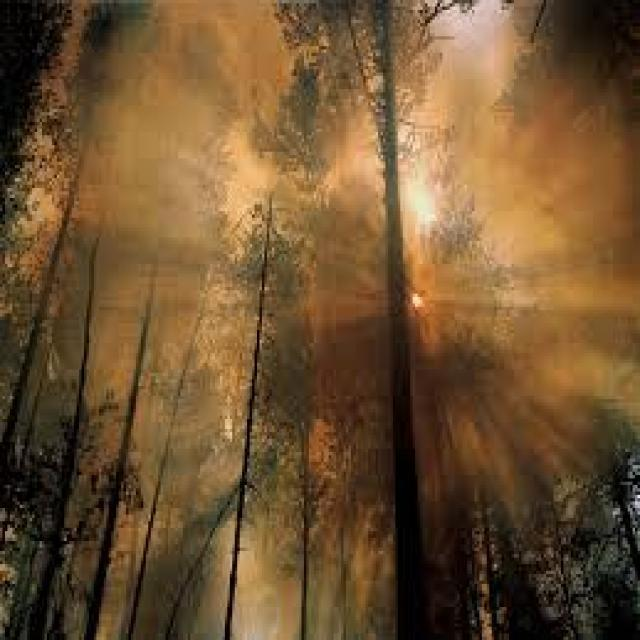Fire: (404, 264, 444, 342)
Smoke: (101, 54, 342, 500), (446, 56, 614, 450)
